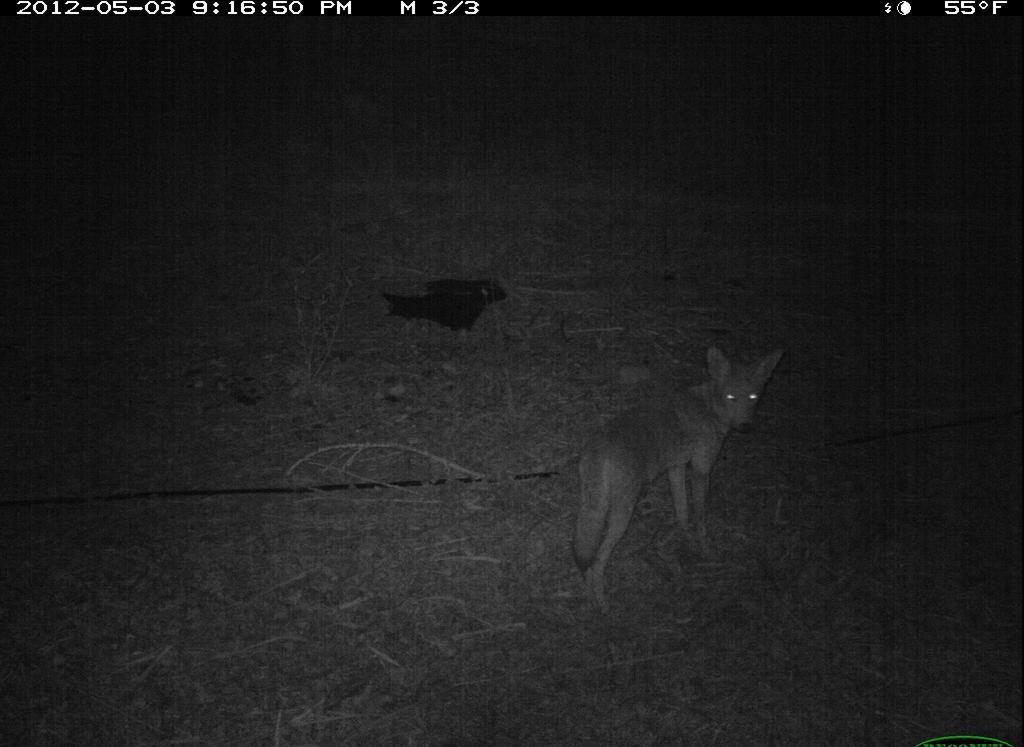coyote: (556, 344, 794, 615)
